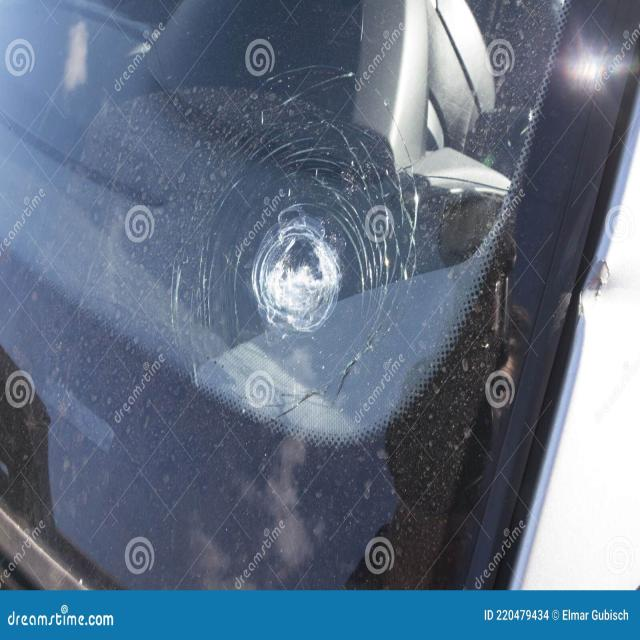crack: (149, 44, 449, 433)
